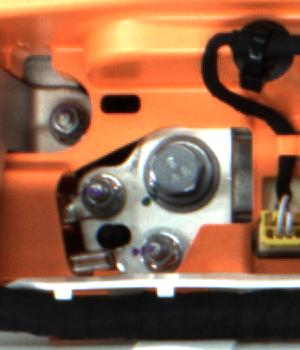nut_b: (141, 137, 217, 206)
screw_s: (74, 173, 125, 218), (137, 238, 193, 268), (45, 104, 90, 139)
